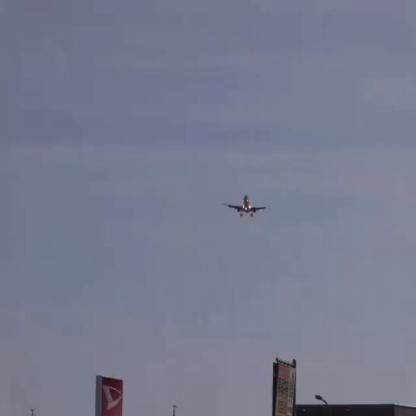CIV_Plane: (222, 195, 266, 217)
